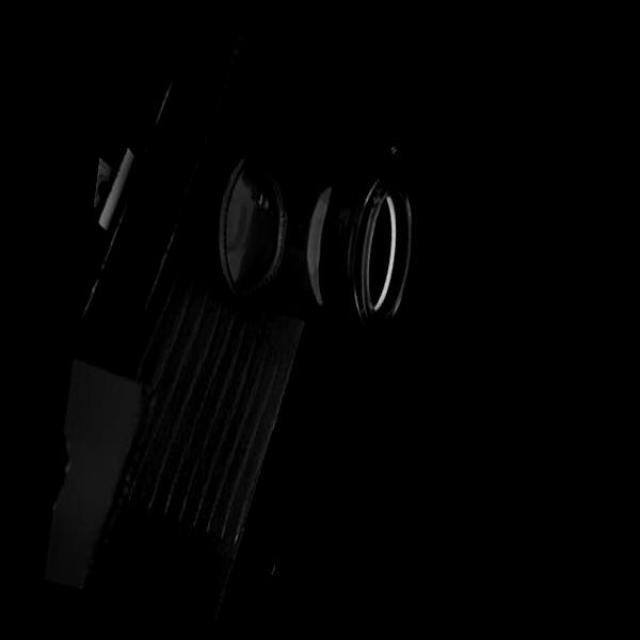defect: (368, 187, 381, 210)
glass: (204, 133, 424, 345)
